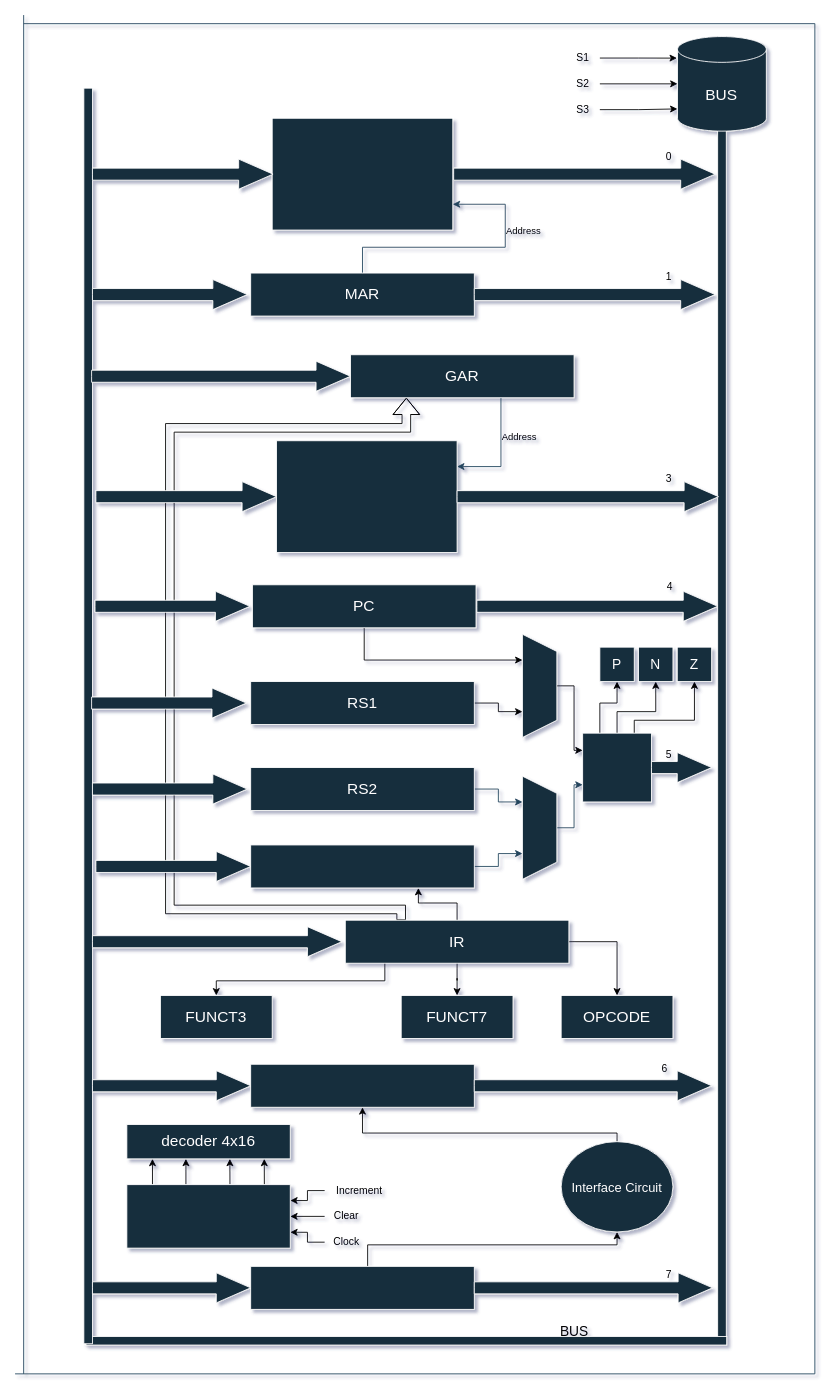
The diagram is 836 pixels wide and 1395 high, and some of its shapes have lost their labels. Here are the shapes that lost their labels. From the top down, the centre of each, then its label:
At (362,173): "Memory unit 65535 * 8".
At (366,496): "General Registers Unit x32".
At (616,767): "ALU".
At (362,866): "IMM".
At (362,1085): "INPR".
At (208,1216): "4-bit sequence counter (SC)".
At (362,1287): "OUTR".
